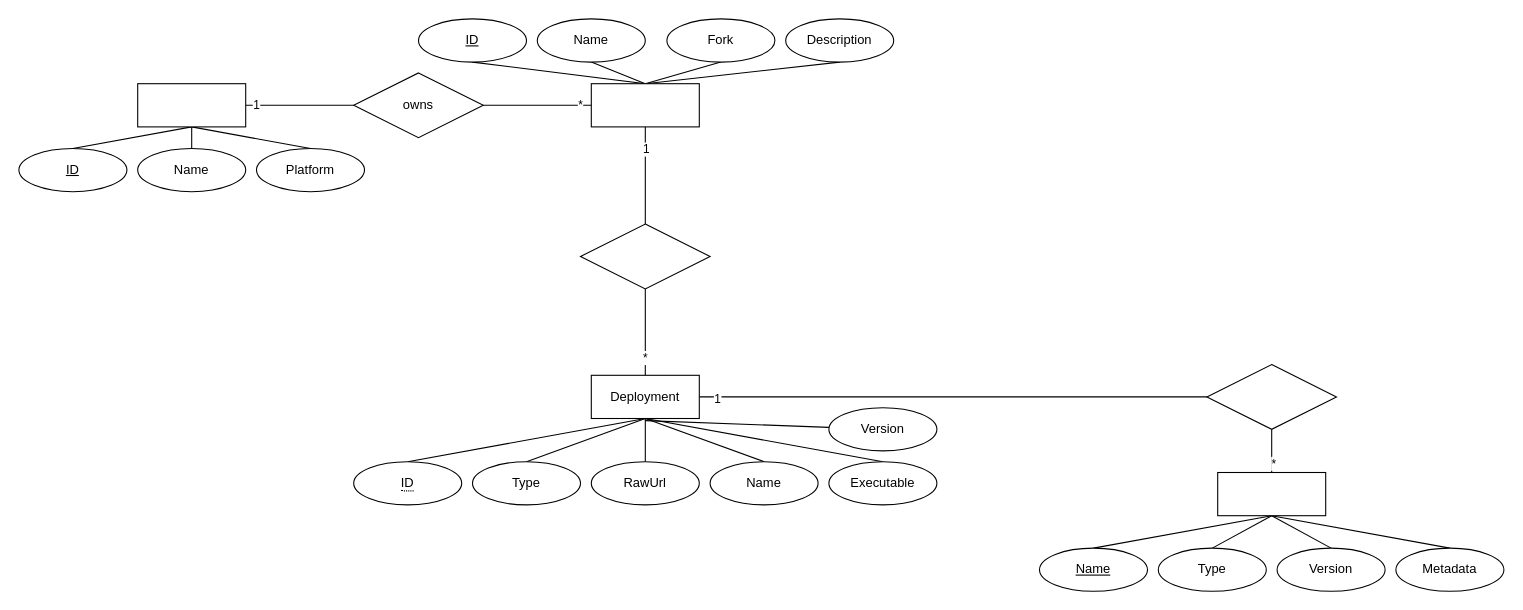
Image size: 1523x610. Some labels were removed from this diagram. The shapes that lost their labels are listed below. From the top down, each one's box as (x1, y1, x2, y2) in pixels, then its label:
(137, 83, 246, 127): User
(590, 83, 699, 127): Repository
(579, 223, 710, 289): contains
(1206, 363, 1336, 429): includes
(1217, 471, 1326, 516): Image
